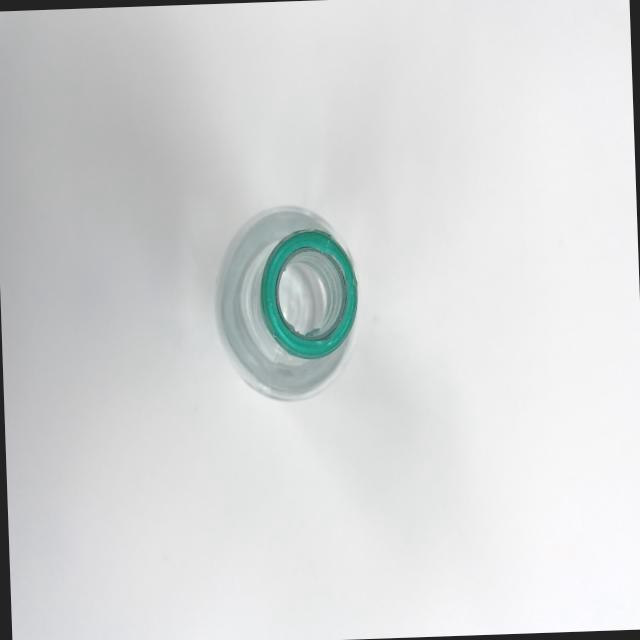glass: (193, 185, 390, 426)
